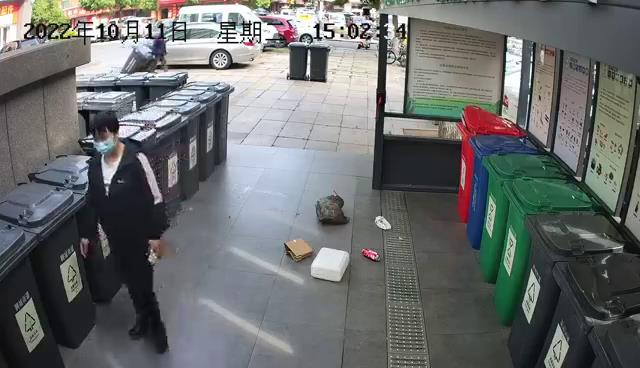lvzhipin: (361, 247, 382, 263), (375, 214, 392, 231)
paomozhipin: (310, 246, 350, 283)
person: (80, 110, 170, 355)
suliaozhipin: (315, 193, 351, 226)
zhizhipin: (283, 237, 314, 263)
